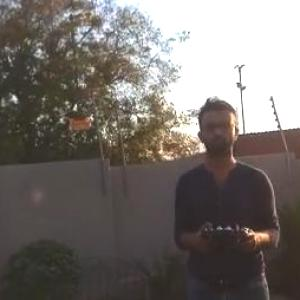follow: (170, 86, 287, 299)
